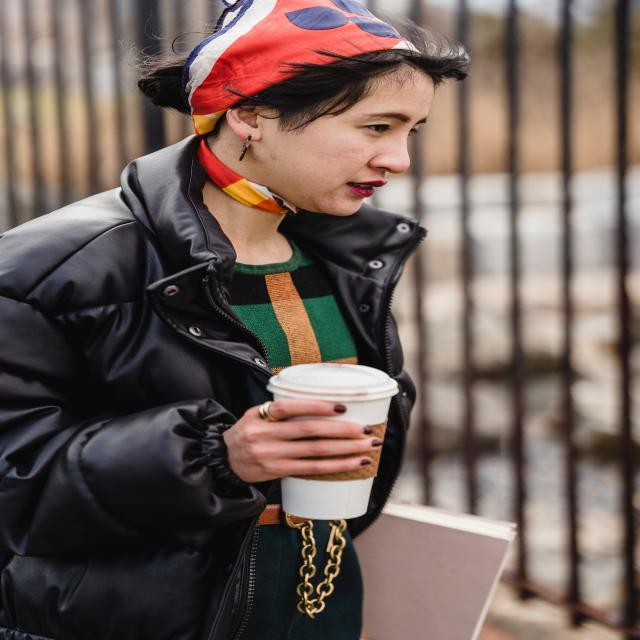cup: (266, 360, 400, 524)
